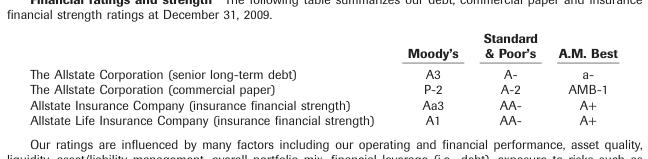table: (29, 29, 616, 127)
table column: (29, 29, 390, 127), (390, 29, 470, 127), (470, 29, 547, 127), (547, 29, 616, 127)
table column header: (29, 29, 616, 63)
table row: (29, 29, 616, 63), (29, 63, 616, 81), (29, 96, 616, 112), (29, 81, 616, 96), (29, 112, 616, 127)
